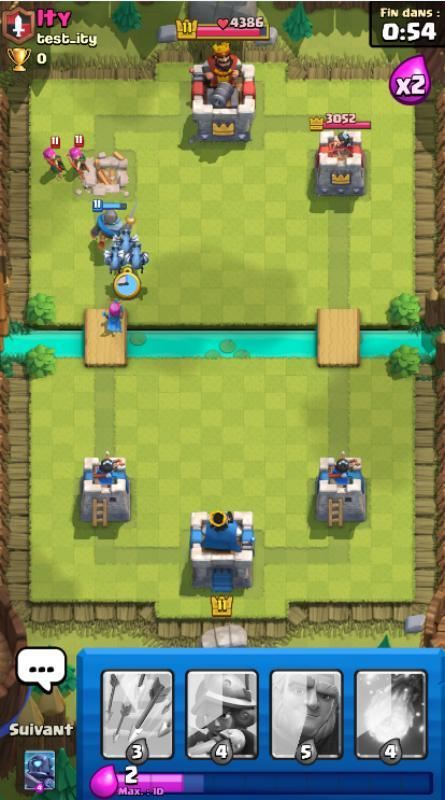archere: (42, 135, 69, 181), (66, 135, 92, 179), (101, 296, 124, 336)
chevalier: (88, 198, 140, 250)
gargouille: (125, 244, 150, 275), (114, 229, 140, 254), (103, 246, 125, 274)
